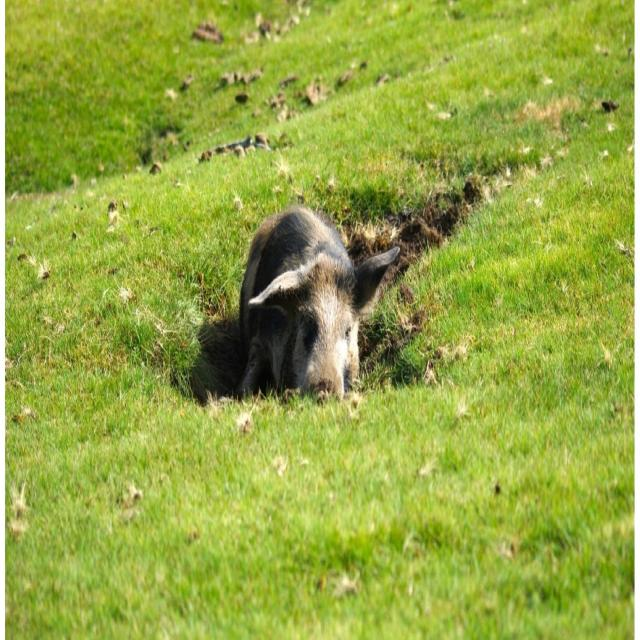pig: (231, 207, 401, 399)
